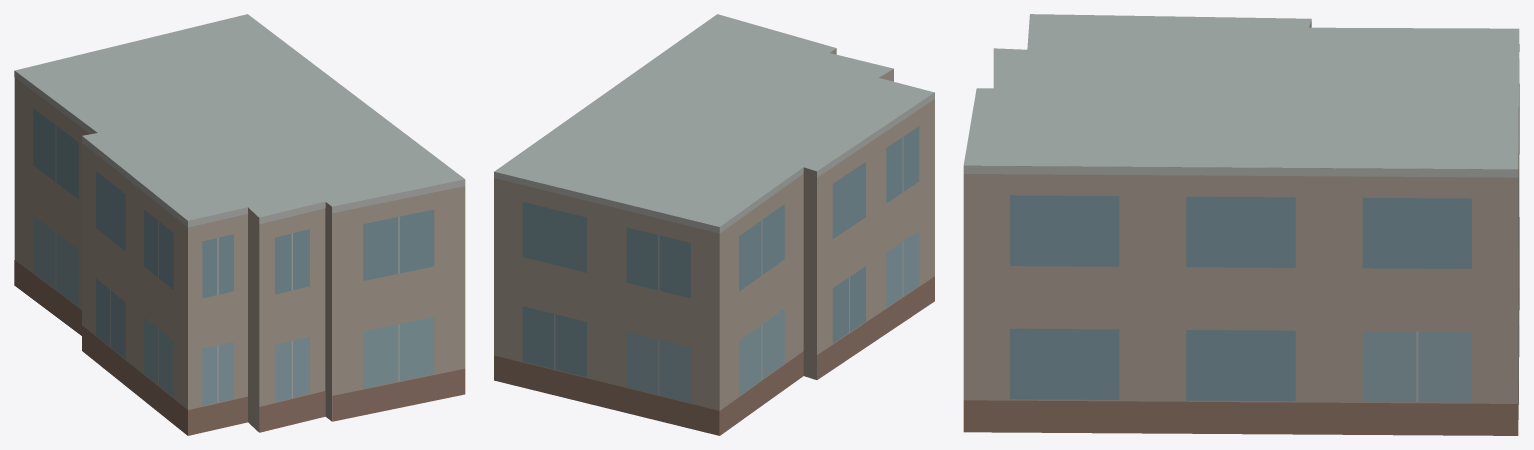
File: survey-upis-32499414.glb
The picture shows the model from 3 angles, left to right: view 1: azimuth 30°, elevation 25°; view 2: azimuth 150°, elevation 25°; view 3: azimuth 270°, elevation 25°; orthographic projection. The views are drawn at different scales.
Parts seen in each view (by area): view 1: survey-upis-32499414.tmp; view 2: survey-upis-32499414.tmp; view 3: survey-upis-32499414.tmp.
Part boxes in pixels (box(x1,y1,x2,y2)): survey-upis-32499414.tmp: box(14, 14, 465, 435); survey-upis-32499414.tmp: box(494, 14, 934, 435); survey-upis-32499414.tmp: box(963, 14, 1519, 435).
Bounding box in the file's own units: 9.88 × 7.9 × 14.94.
